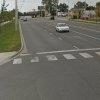Crosswalk: (14, 45, 99, 74)
